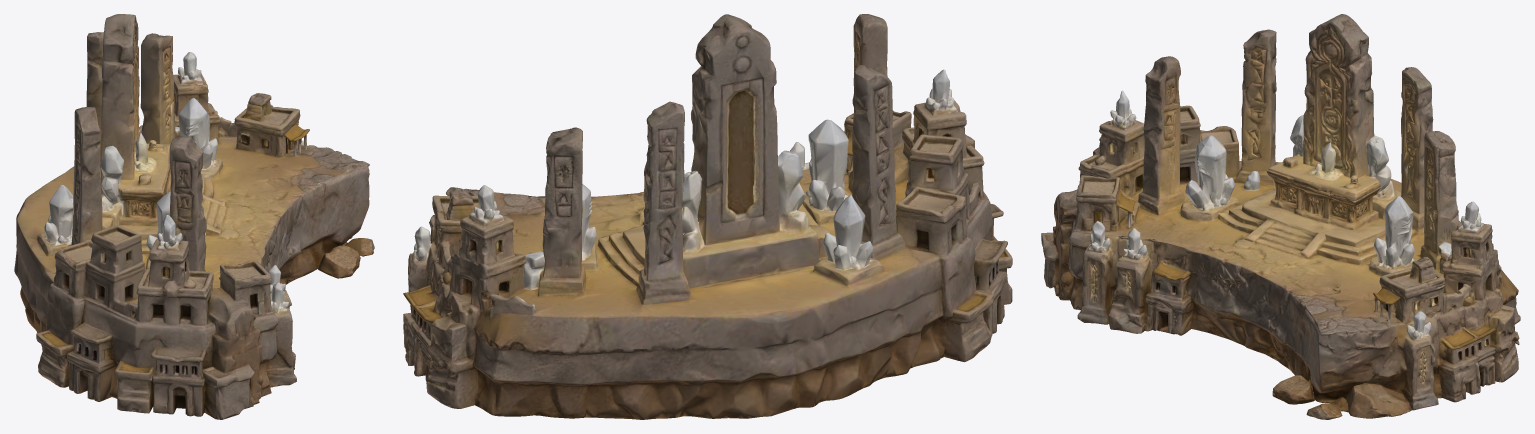
File: sun.glb
3 views of the same model, side by side, from view 1: azimuth 30°, elevation 25°; view 2: azimuth 150°, elevation 25°; view 3: azimuth 270°, elevation 25° (orthographic). The views are drawn at different scales.
Visible parts, largest first — view 1: vizcom_node_0; view 2: vizcom_node_0; view 3: vizcom_node_0.
Part boxes in pixels (x1=…): vizcom_node_0: x1=14, y1=14, x2=374, y2=419; vizcom_node_0: x1=403, y1=14, x2=1012, y2=419; vizcom_node_0: x1=1041, y1=14, x2=1520, y2=419.
Bounding box in the file's own units: 1.69 × 1.2 × 1.83.
Materials: 1 (1 with a texture image).
